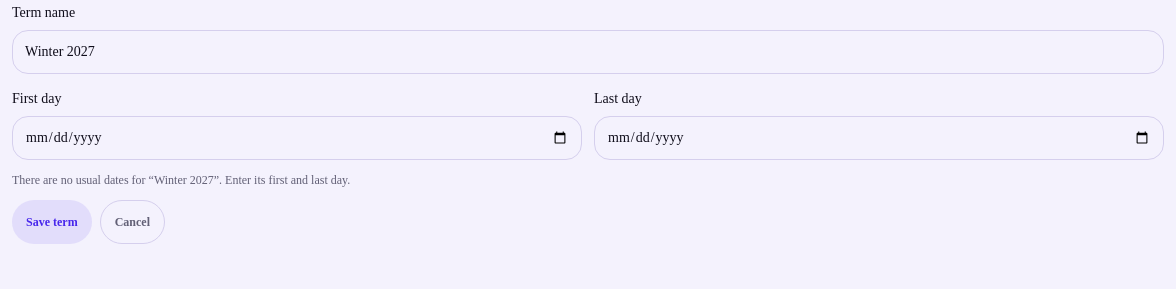
Test: TermForm › shows why a term cannot be saved and does not save it
The width and height of the screenshot is (1176, 289).
Click the button "Save term" at point(52, 222), box [12,200,92,244]
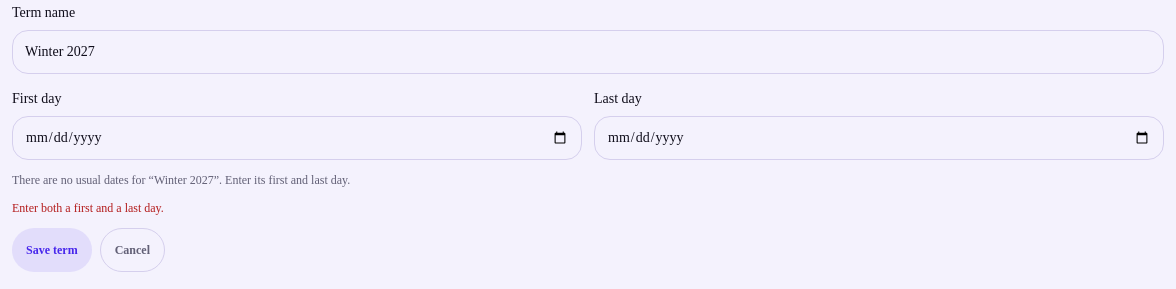
Expected: the message shows "first and a last day", [12,201,164,215]
Clear the field labelled "Term name" at point(588, 52), box [12,30,1164,74]
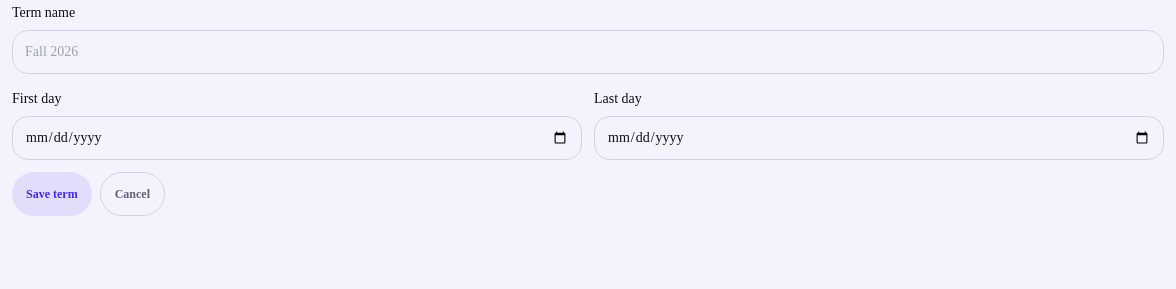
Click the button "Save term" at point(52, 194), box [12,172,92,216]
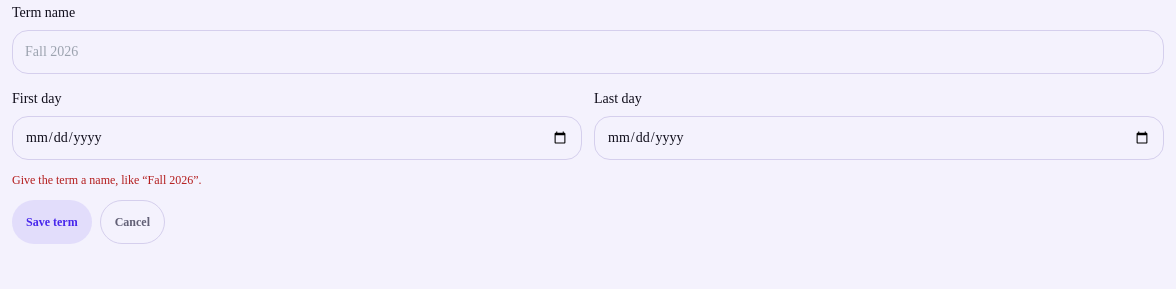
Expected: the message shows "Give the term a name", [12,173,202,187]
